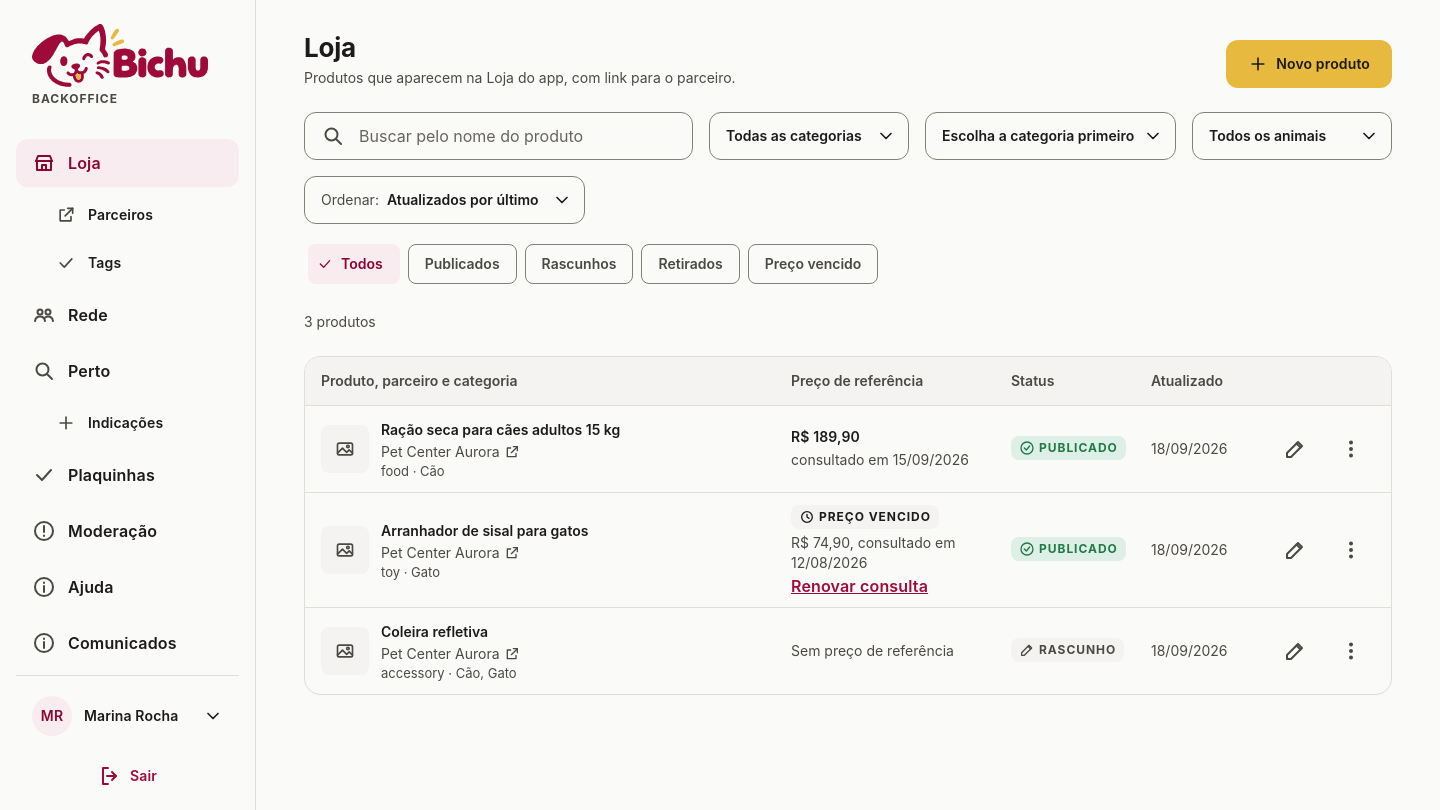
Test: 3 · Loja: lista › Renovar consulta pede o preco de novo e manda centavos com a data de hoje
The width and height of the screenshot is (1440, 810).
Check: the text "3 produtos" is shown, box [304,313,376,330]
Step 1. Click the button "Renovar consulta" → (860, 586), box [791,577,928,595]
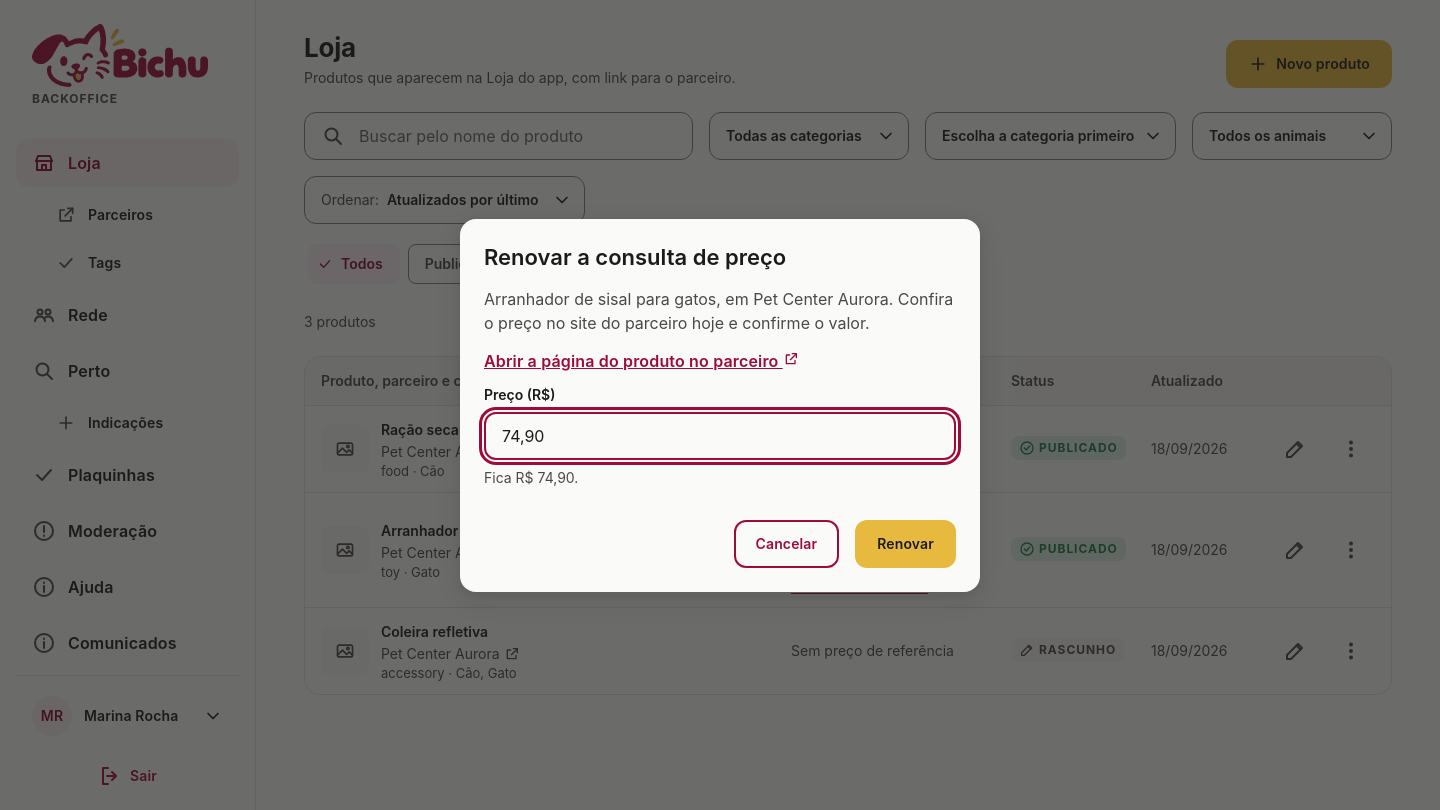
Check: the field labelled "Preço (R$)" holds "74,90"
Step 2. Replace the text in the field labelled "Preço (R$)" with "abc" → (720, 436), box [484,412,956,460]
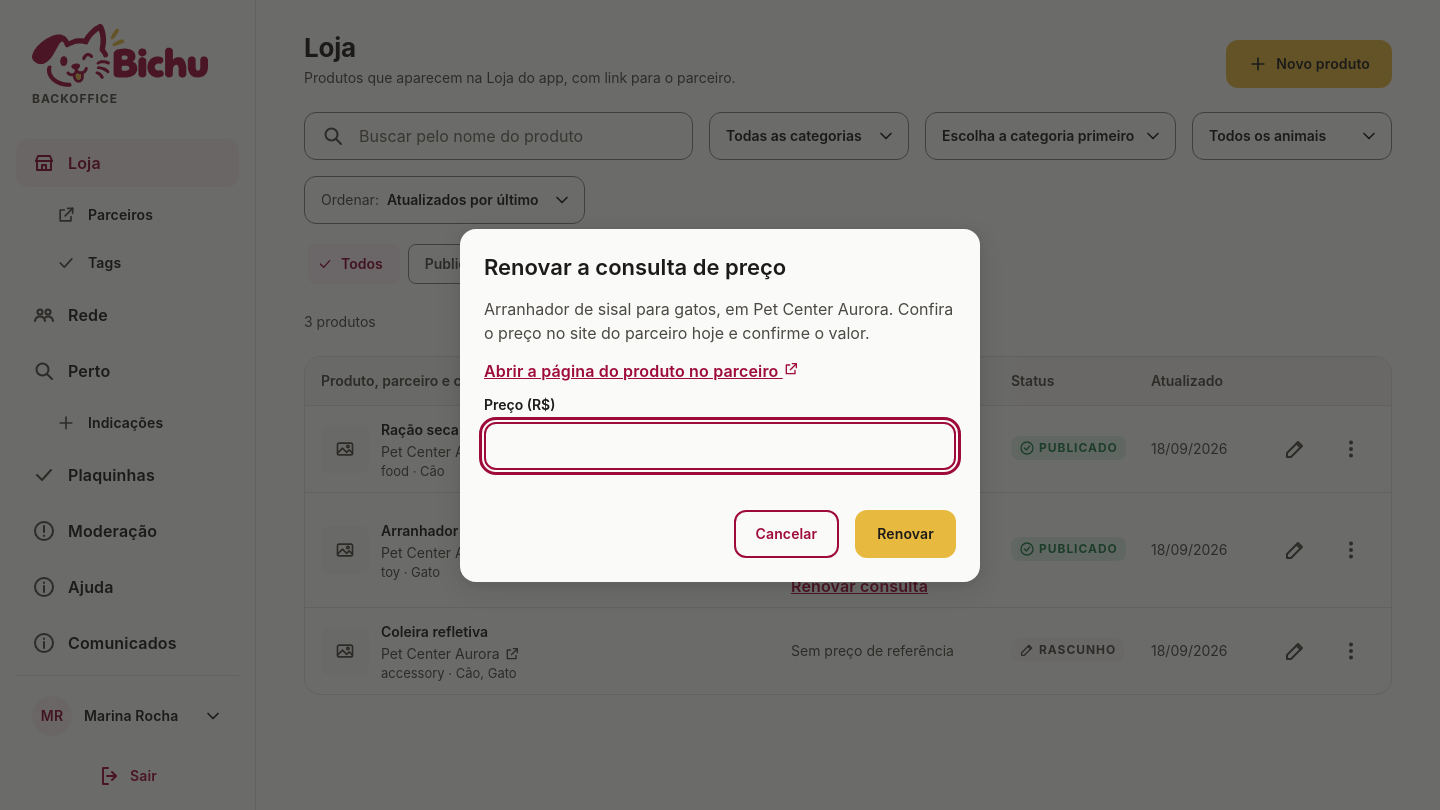
Step 3. Click the button "Renovar" → (906, 534), box [855,510,956,558]
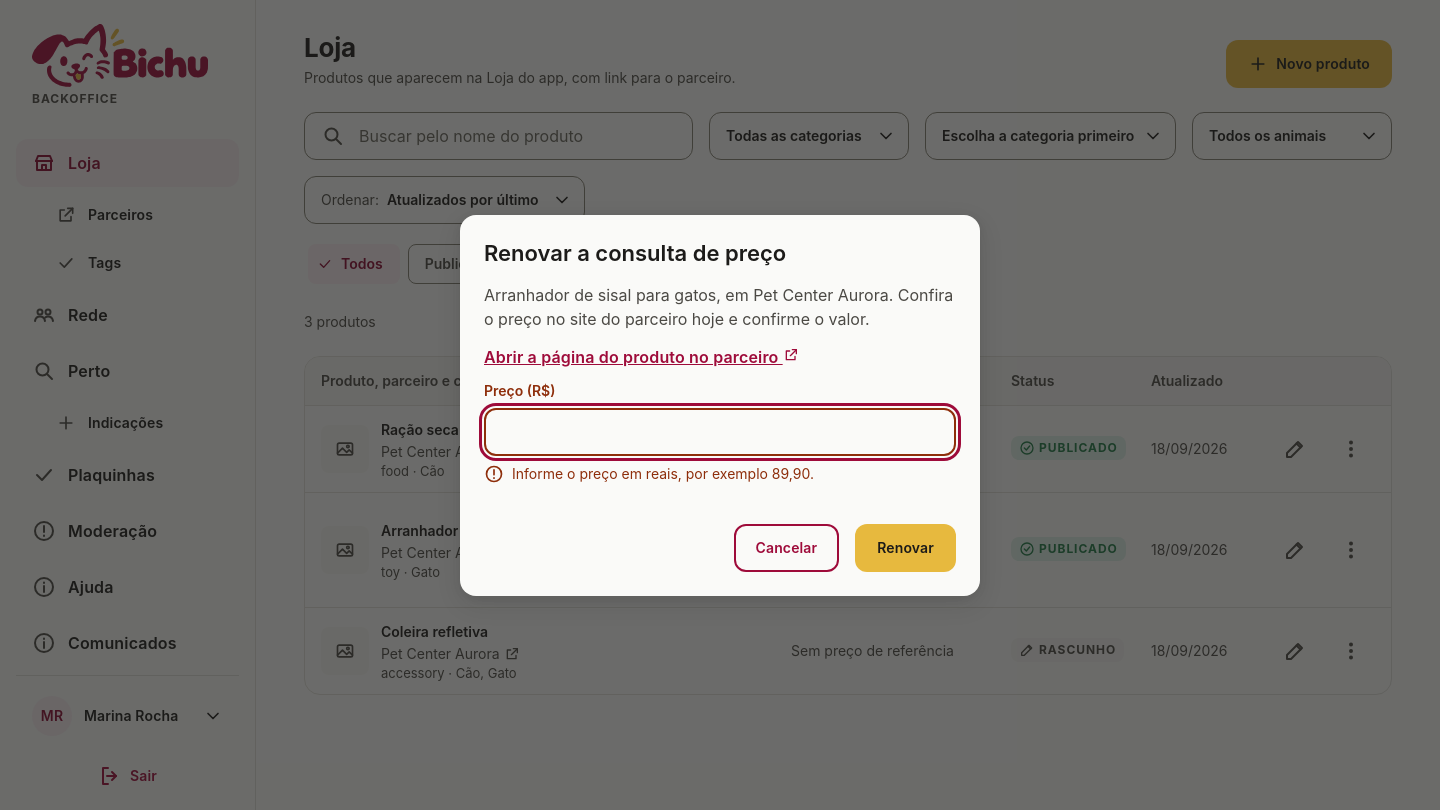
Step 4. Type "79,90" into the field labelled "Preço (R$)" → (720, 432), box [484,408,956,456]
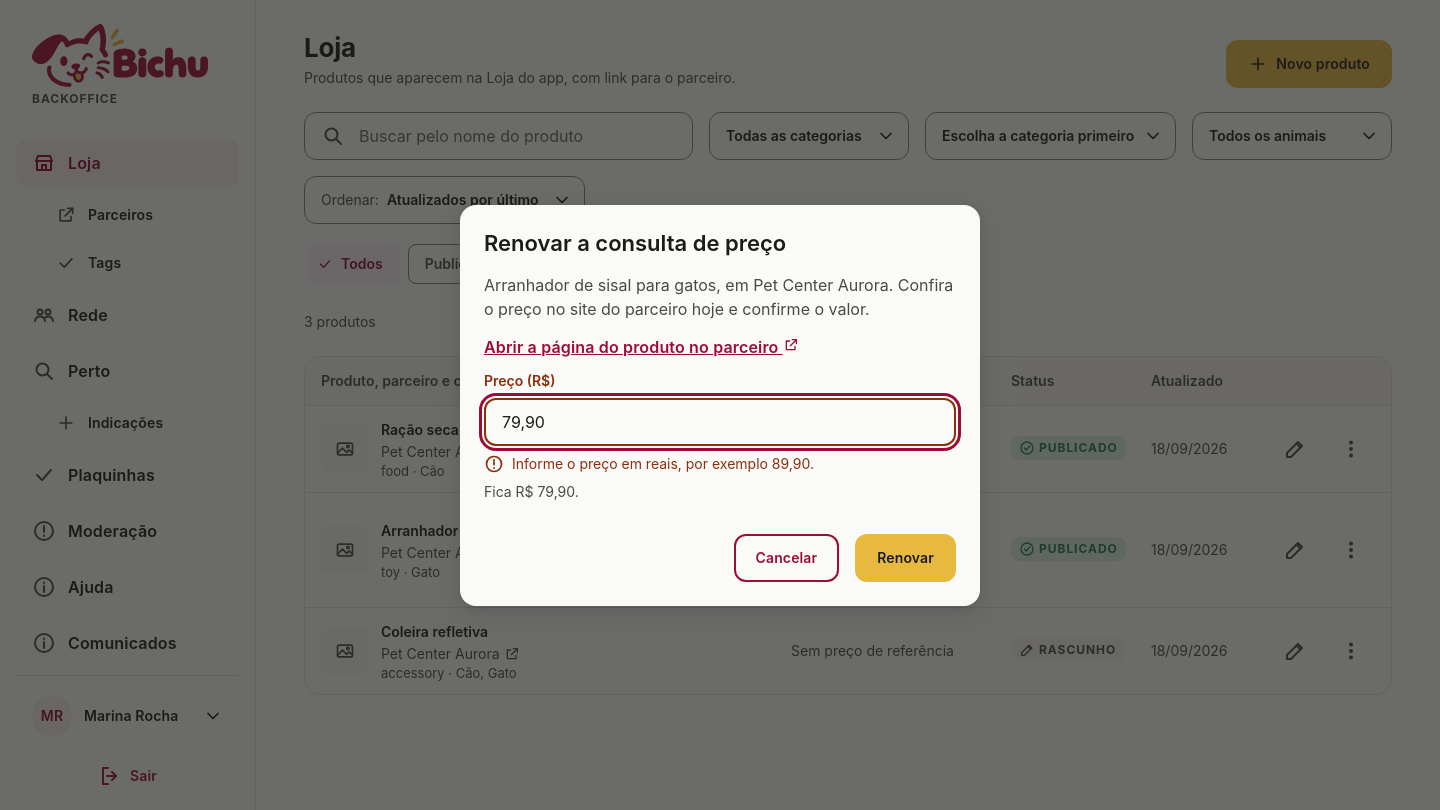
Step 5. Click the button "Renovar" → (906, 558), box [855,534,956,582]
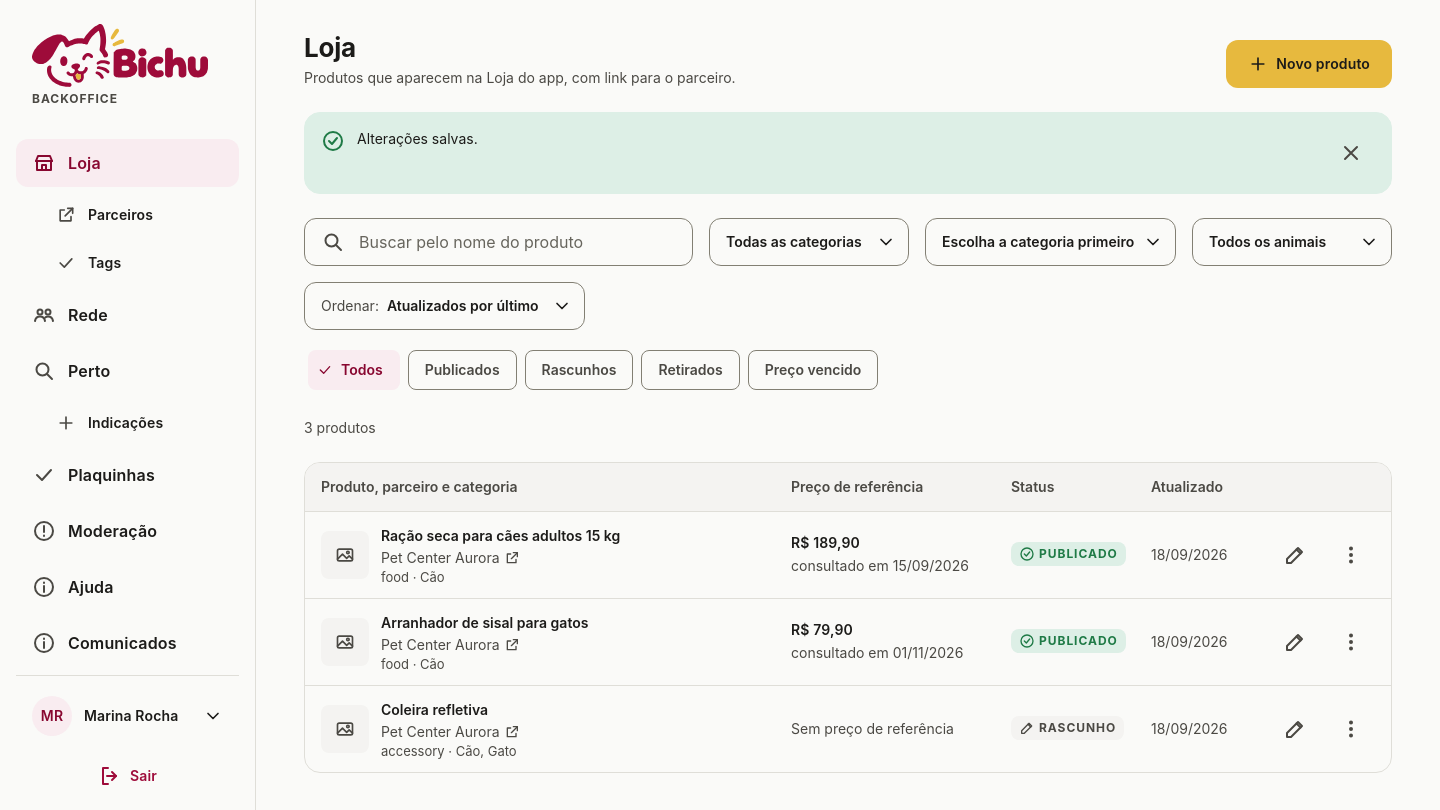
Check: the text "Alterações salvas." is shown, box [357,130,478,147]
